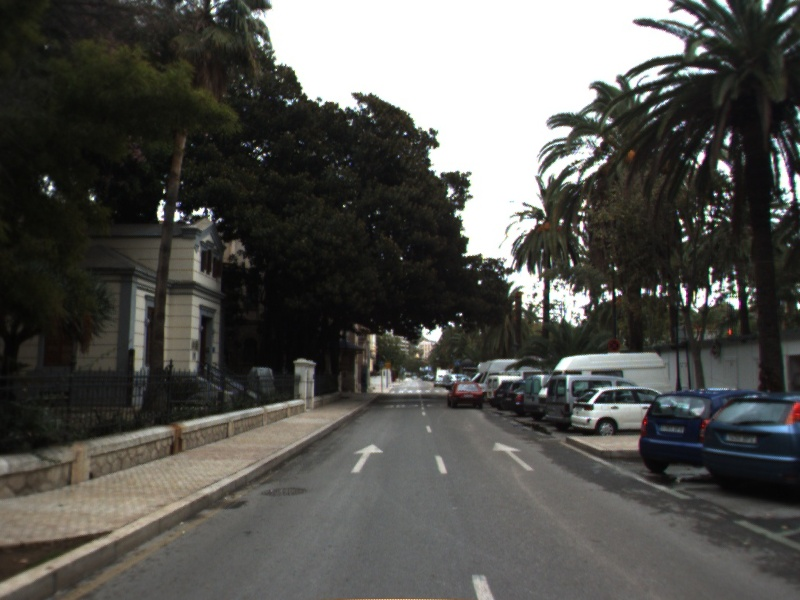STRAIGHT: (491, 440, 537, 472), (349, 442, 385, 475)
